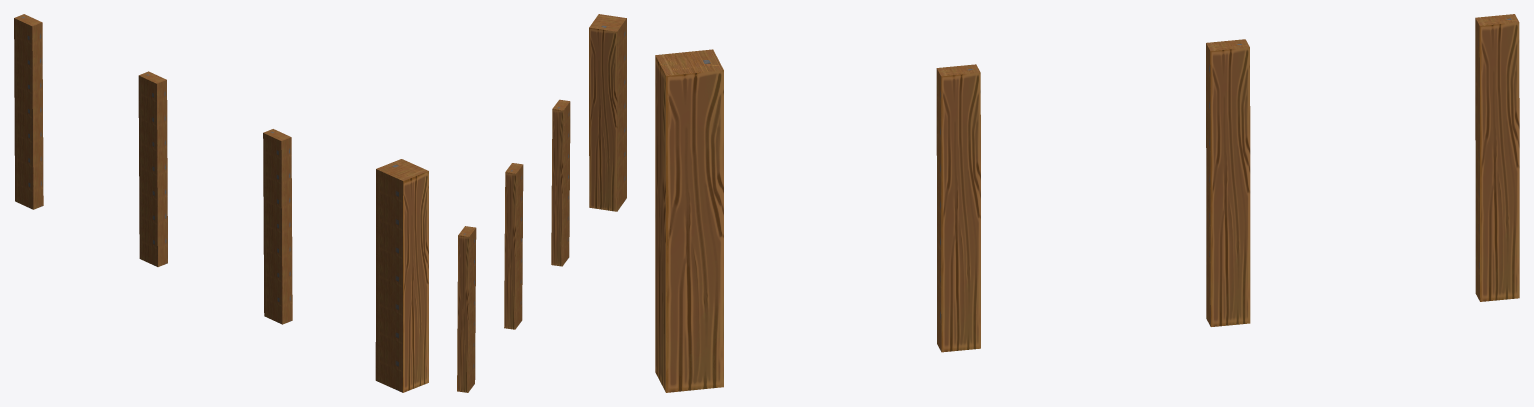
3 renders of one model, left to right at view 1: azimuth 30°, elevation 25°; view 2: azimuth 150°, elevation 25°; view 3: azimuth 270°, elevation 25°, orthographic. The views are drawn at different scales.
Visible parts, largest first — view 1: Cube.1898; view 2: Cube.1898; view 3: Cube.1898.
Part boxes in pixels (x1,y1,x2,y2): Cube.1898: (14,14,428,392); Cube.1898: (457,14,626,392); Cube.1898: (655,14,1519,392).
Bounding box in the file's own units: 107 × 164 × 406.
1 material, 1 textured.
